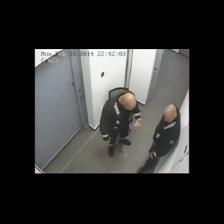person: (138, 105, 180, 173), (100, 91, 142, 156)
